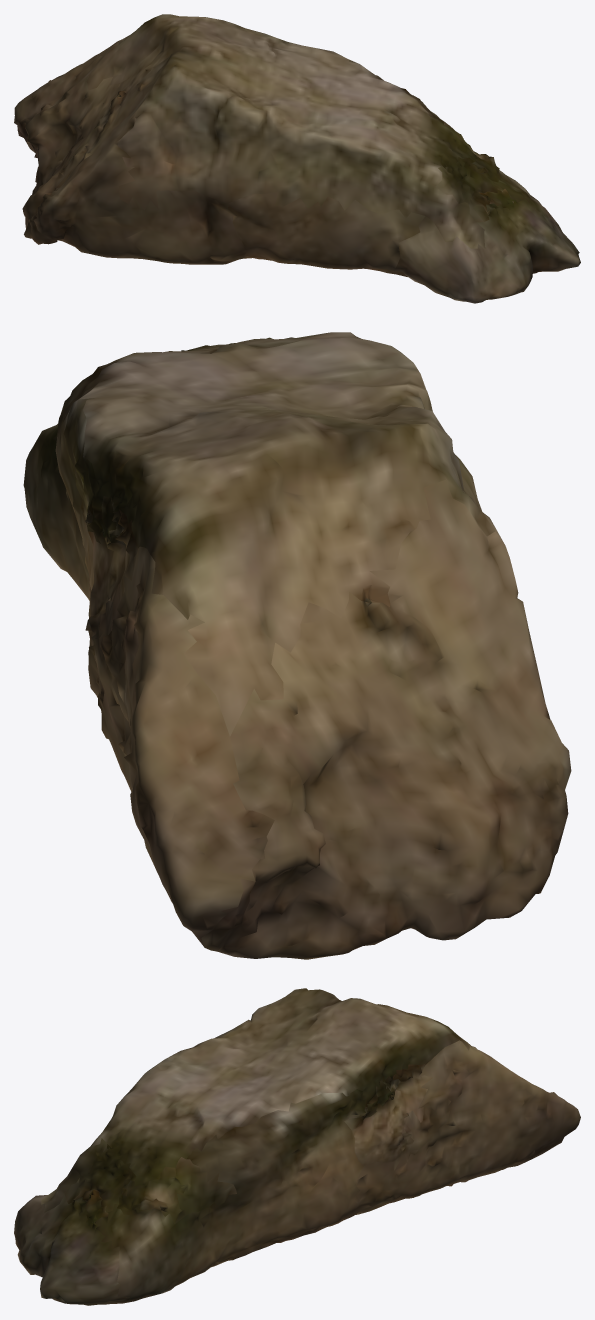
The model's file is rock_moss_set_01_c.gltf.
3 views of the same model, one above another, from view 1: azimuth 30°, elevation 25°; view 2: azimuth 150°, elevation 25°; view 3: azimuth 270°, elevation 25° (orthographic). The views are drawn at different scales.
Parts seen in each view (by area): view 1: rock_moss_set_01_rock02; view 2: rock_moss_set_01_rock02; view 3: rock_moss_set_01_rock02.
Boxes of the visible parts, <box> form: rock_moss_set_01_rock02: <box>14,14,580,303</box>; rock_moss_set_01_rock02: <box>23,332,571,959</box>; rock_moss_set_01_rock02: <box>14,988,580,1305</box>.
Bounding box in the file's own units: 2.66 × 1.26 × 3.26.
1 material, 1 textured.
